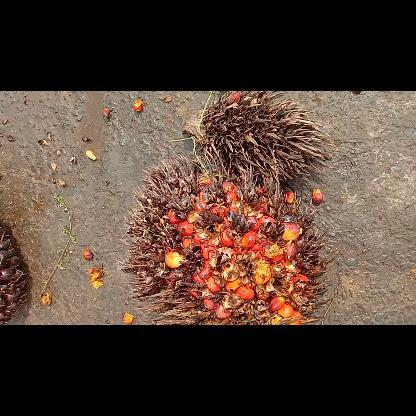Janjang kosong: (182, 90, 335, 180)
Terlalu masak: (119, 152, 338, 324)
